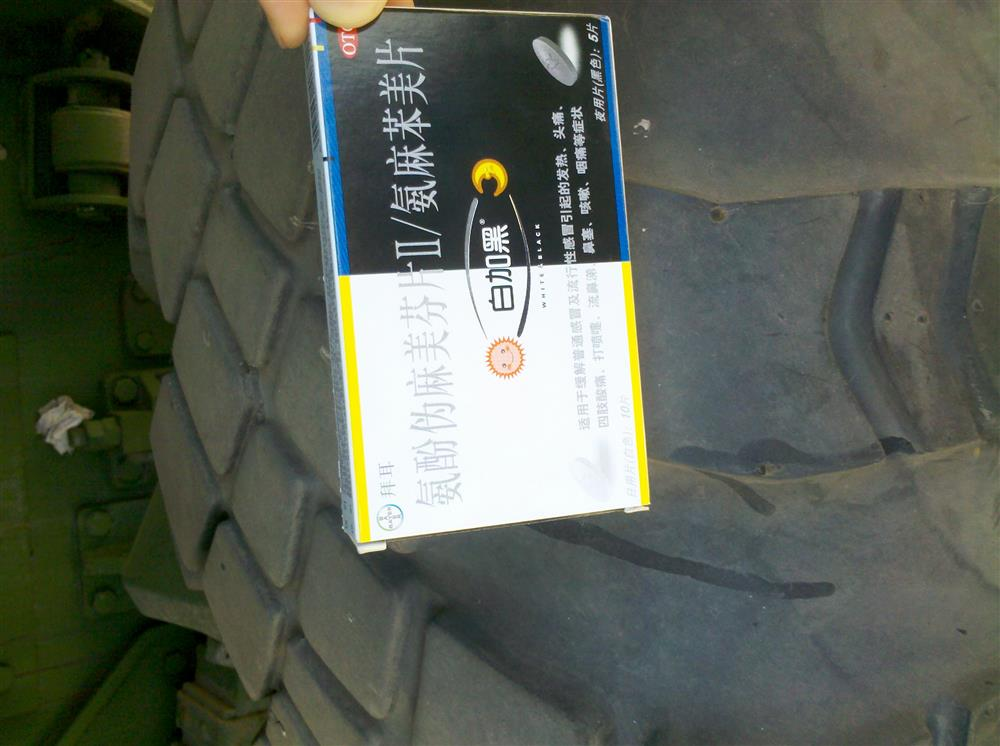Pills_package: (301, 6, 649, 541)
